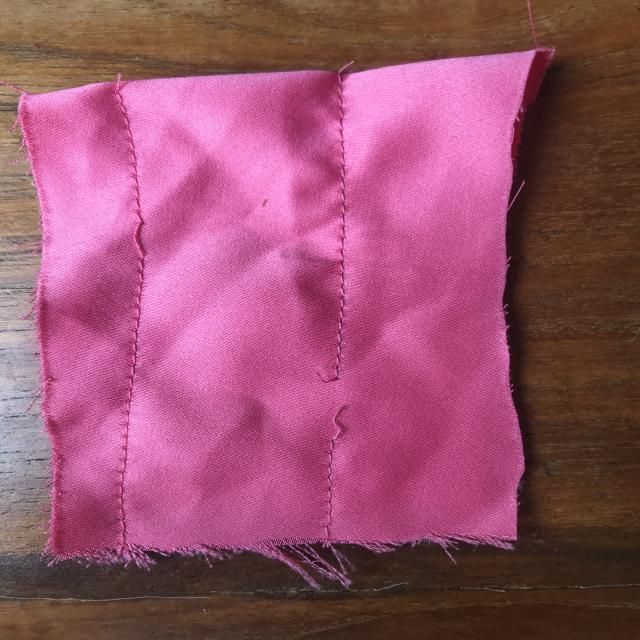broken: (303, 353, 365, 450)
good: (327, 189, 363, 283)
skip: (122, 202, 175, 280)
